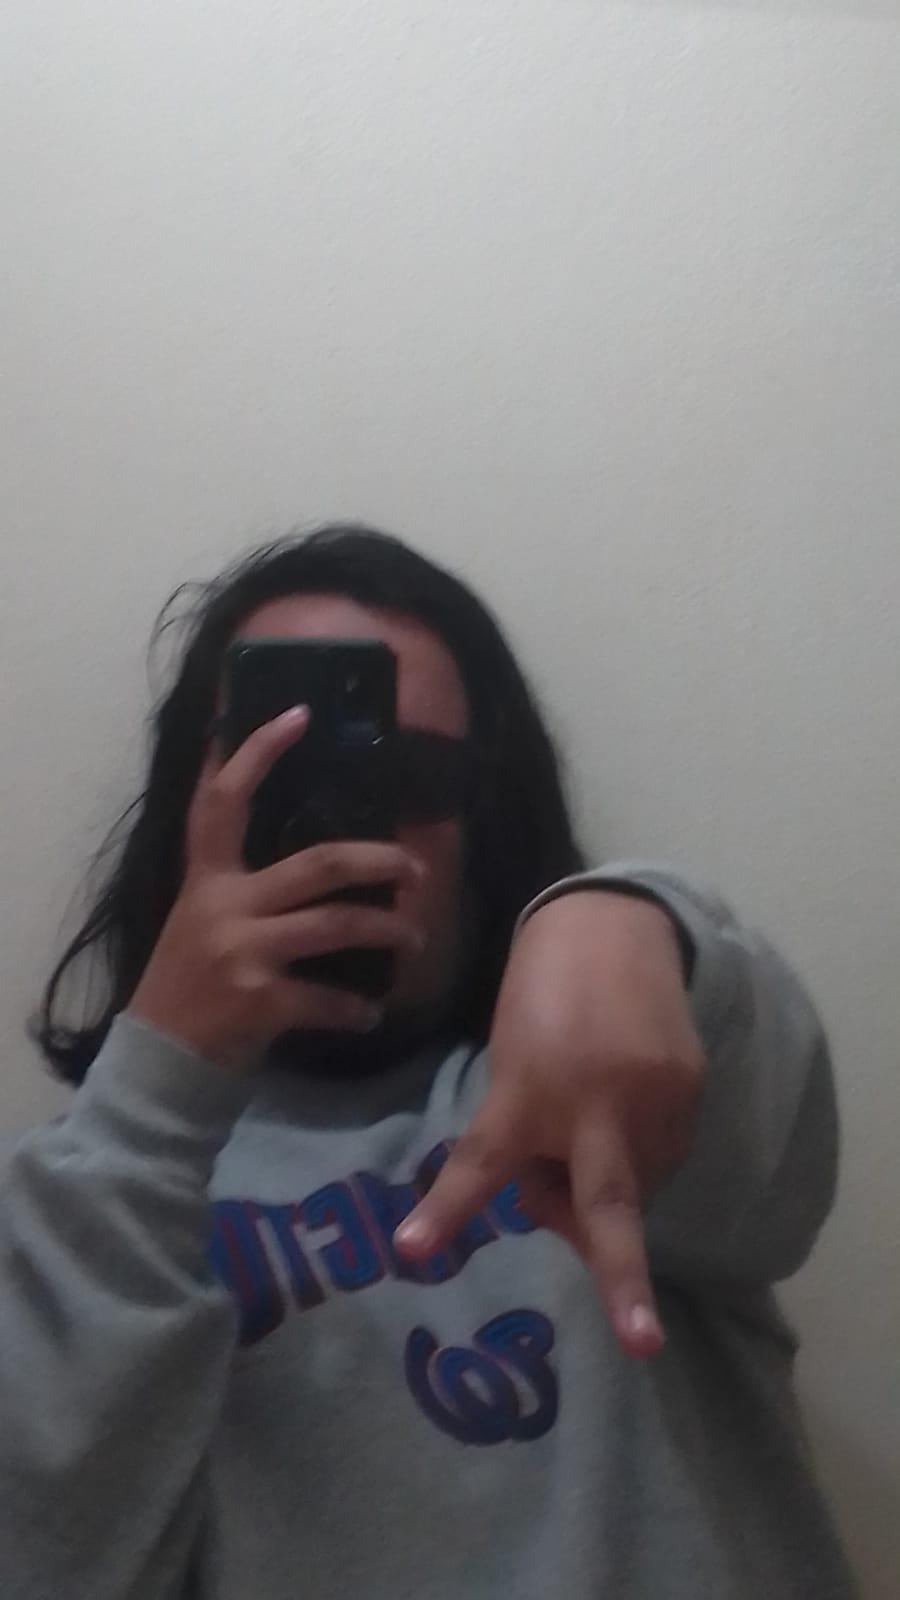Scissor: (367, 870, 787, 1382)
